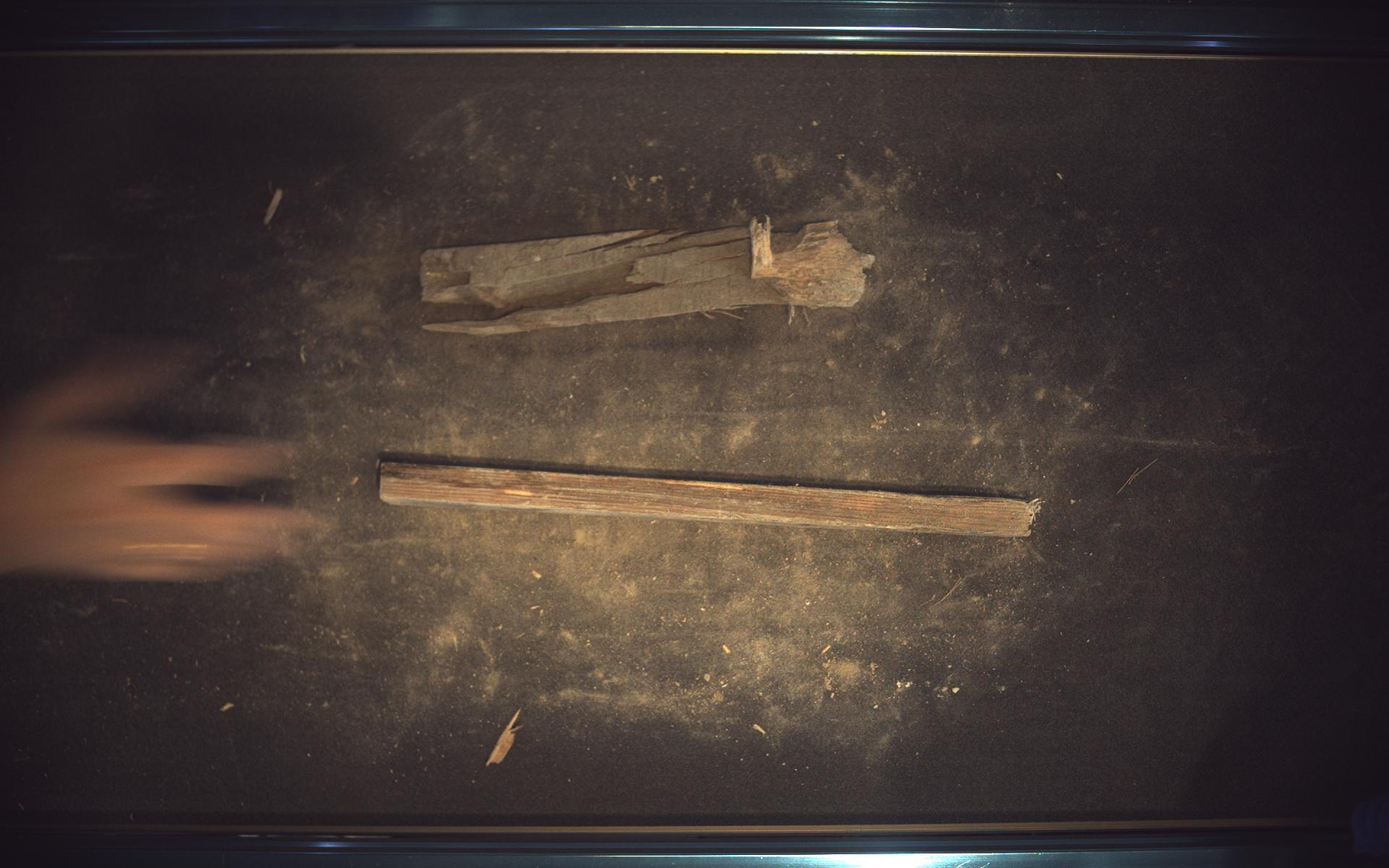wood: (420, 218, 875, 336), (378, 459, 1042, 538)
